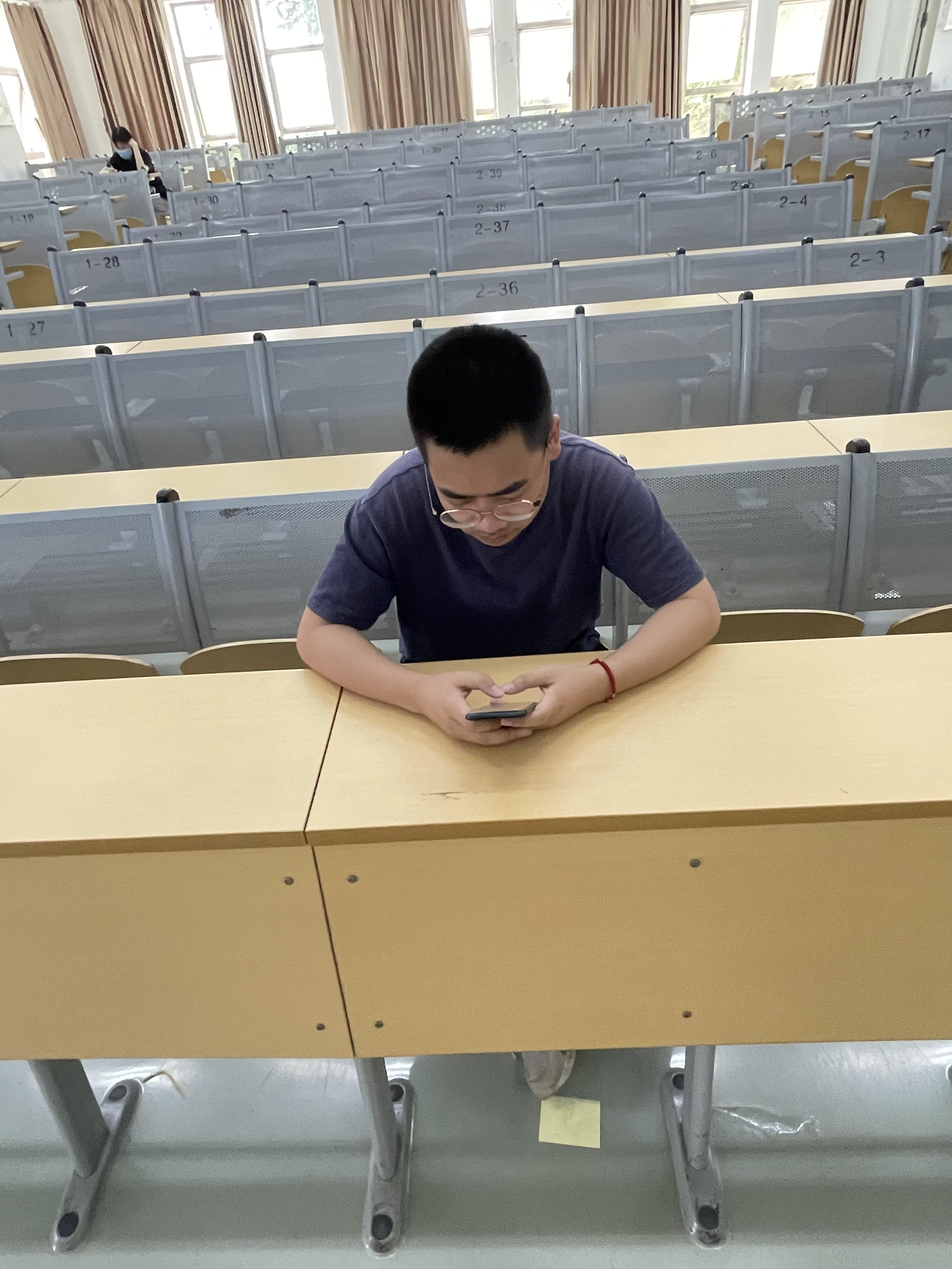phone: (293, 333, 724, 746)
